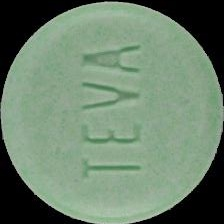50436-0195: (0, 0, 224, 224)
